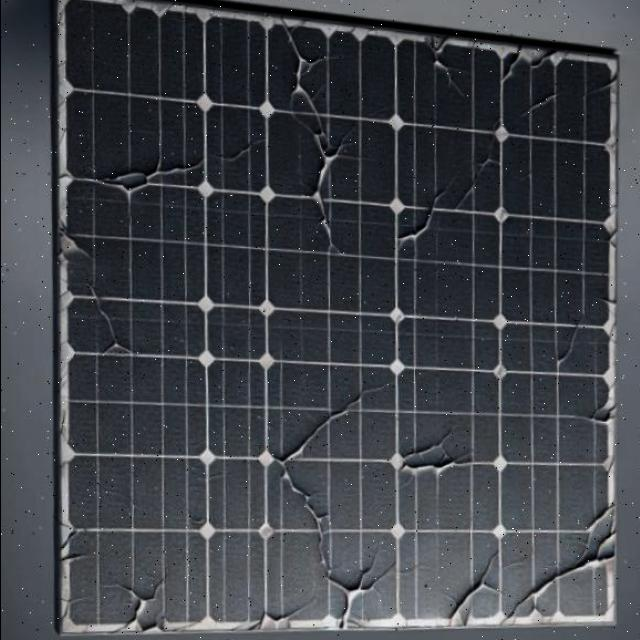Anomaly Solar Panel: (59, 0, 625, 640)
Structural Damage: (255, 374, 485, 628), (267, 6, 396, 253), (445, 546, 527, 639), (454, 108, 519, 218), (392, 168, 470, 252), (496, 556, 578, 625), (572, 492, 635, 577), (82, 276, 136, 365), (100, 576, 176, 628), (417, 31, 478, 93), (208, 136, 274, 167), (555, 307, 592, 362), (575, 65, 625, 102), (404, 442, 453, 473), (145, 153, 207, 177), (518, 84, 567, 113), (497, 40, 529, 84), (119, 167, 151, 195), (61, 555, 98, 564), (593, 400, 611, 418)
